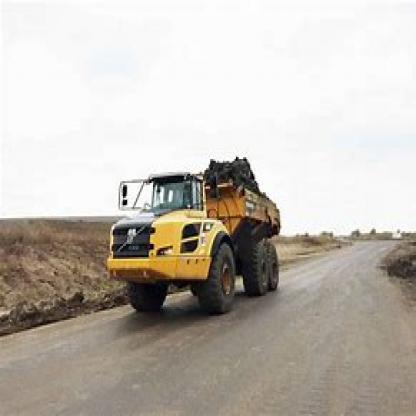dump_truck: (100, 150, 290, 312)
